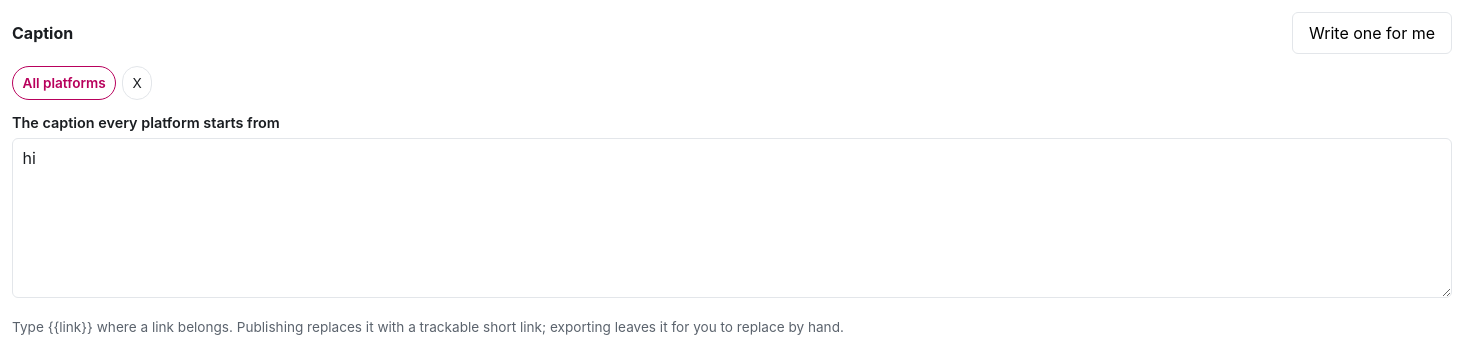
Test: CaptionPanel › refuses to check a caption it has no rules for, rather than guessing
What coordinates should you click on to do the following:
click the tab "X"
I would click on:
 (137, 83)
Its box is left=122, top=66, right=152, bottom=100.
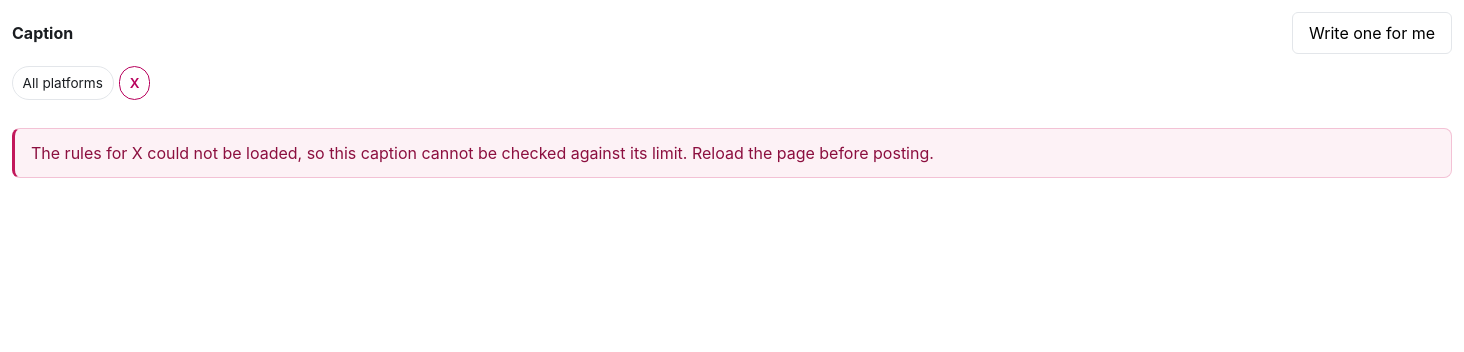
Check: the message shows "could not be loaded", box left=143, top=143, right=934, bottom=163
